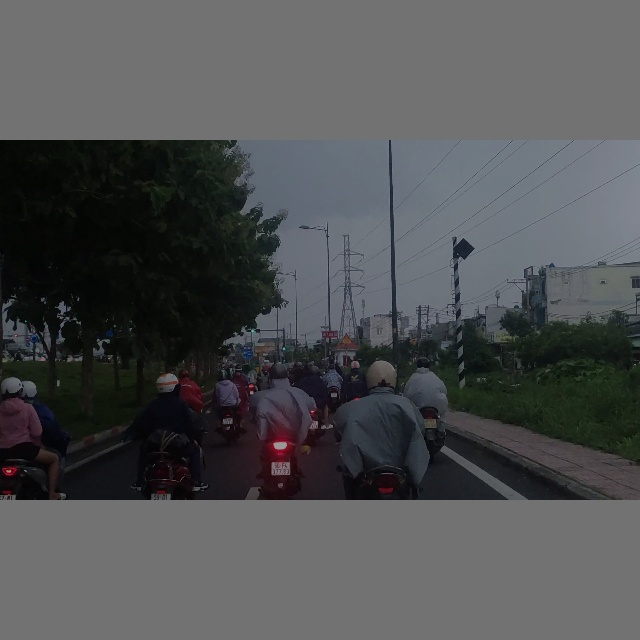W.210: (340, 333, 353, 344)
